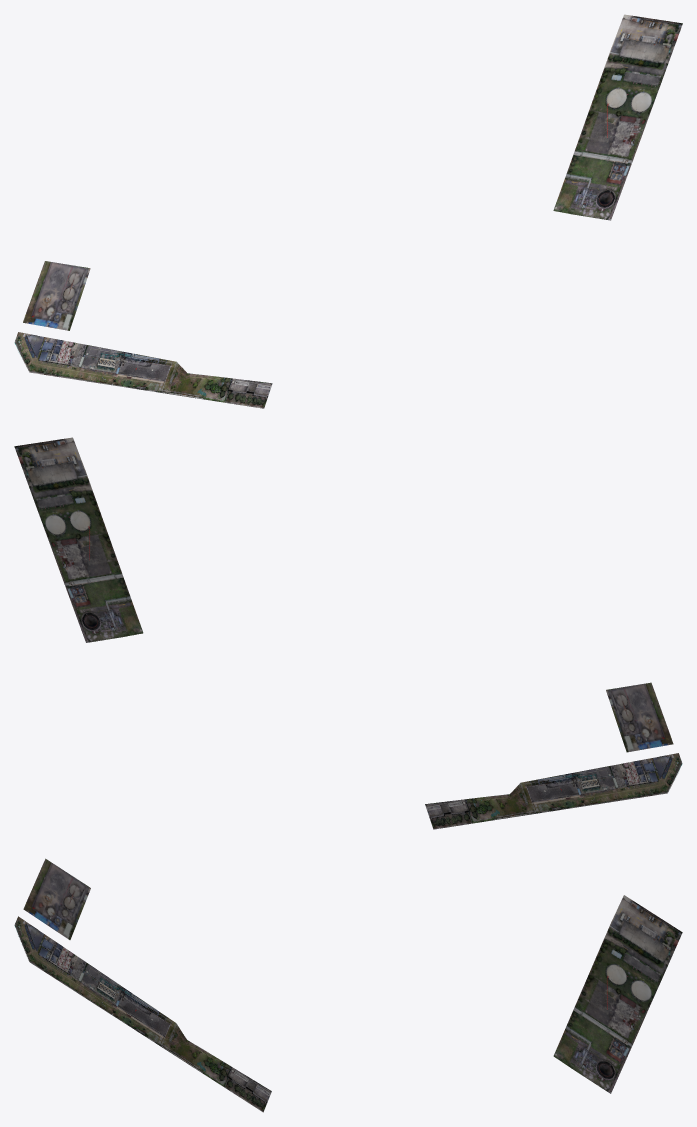
Rendered from dixing_02_02.fbx.
3 views of the same model, one above another, from view 1: azimuth 30°, elevation 25°; view 2: azimuth 150°, elevation 25°; view 3: azimuth 330°, elevation 25° (orthographic).
Visible parts, largest first — view 1: dixing_02_22, dixing_02_44, dixing_02_33; view 2: dixing_02_22, dixing_02_44, dixing_02_33; view 3: dixing_02_22, dixing_02_44, dixing_02_33.
Boxes of the visible parts, x1,y1,x2,y2 form: dixing_02_22: (553, 14, 682, 220); dixing_02_44: (14, 332, 272, 408); dixing_02_33: (23, 261, 90, 330); dixing_02_22: (14, 437, 143, 642); dixing_02_44: (425, 753, 682, 829); dixing_02_33: (606, 682, 673, 752); dixing_02_22: (553, 895, 682, 1093); dixing_02_44: (14, 916, 271, 1112); dixing_02_33: (23, 858, 90, 939).
Size of the model in its own units: 65855 by 28755 by 178.
3 materials, 3 textured.
